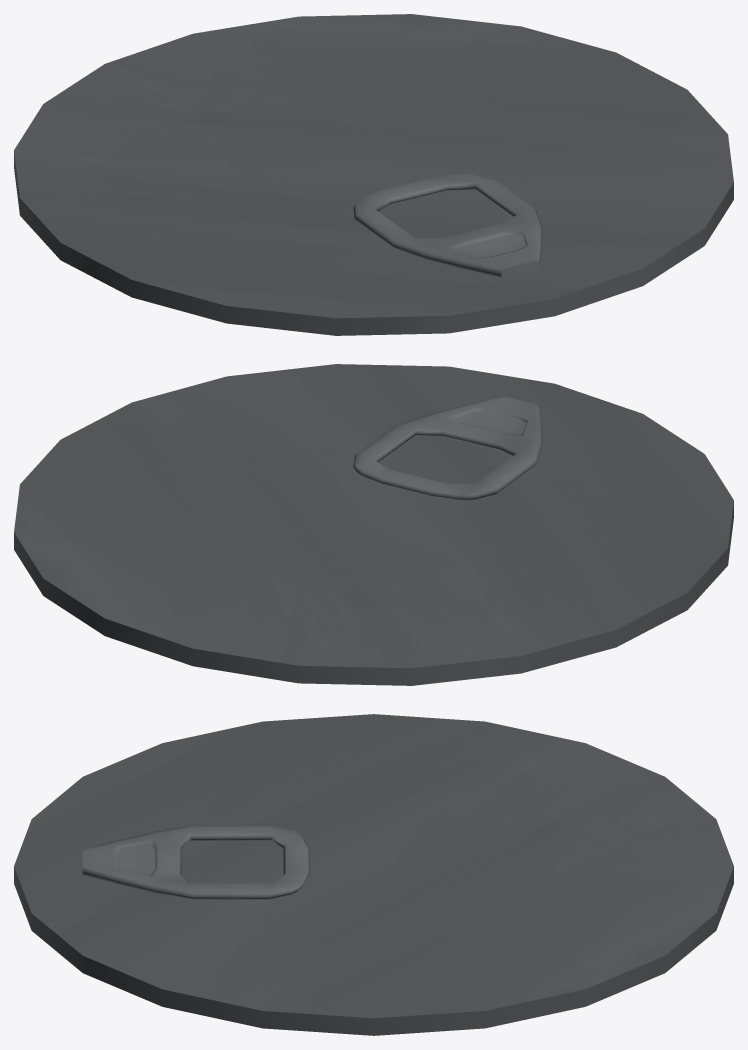
The model's file is SM_CanLid.fbx.
The picture shows the model from 3 angles, top to bottom: view 1: azimuth 30°, elevation 25°; view 2: azimuth 150°, elevation 25°; view 3: azimuth 270°, elevation 25°; orthographic projection.
Visible parts, largest first — view 1: Can_Lid; view 2: Can_Lid; view 3: Can_Lid.
Part boxes in pixels (<box>): Can_Lid: <box>14,14,733,335</box>; Can_Lid: <box>14,364,733,685</box>; Can_Lid: <box>14,714,733,1035</box>.
Size of the model in its own units: 13.82 by 0.5537 by 13.82.
